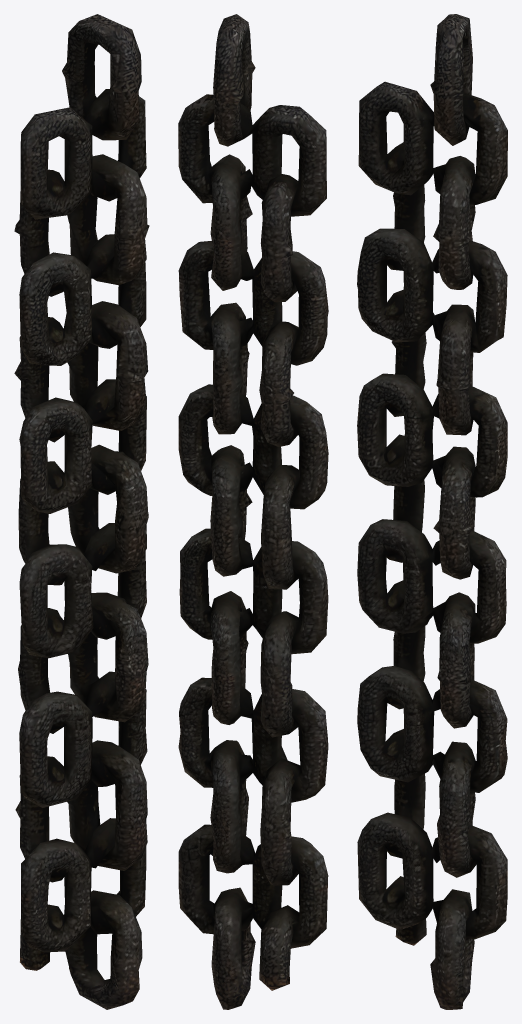
File: raw_chain.glb
3 views of the same model, side by side, from view 1: azimuth 30°, elevation 25°; view 2: azimuth 150°, elevation 25°; view 3: azimuth 330°, elevation 25° (orthographic).
Visible parts, largest first — view 1: tripo_node_8dc55631-9bc3-4ef4-89fb-550272f65bba; view 2: tripo_node_8dc55631-9bc3-4ef4-89fb-550272f65bba; view 3: tripo_node_8dc55631-9bc3-4ef4-89fb-550272f65bba.
Part boxes in pixels (x1,y1,x2,y2): tripo_node_8dc55631-9bc3-4ef4-89fb-550272f65bba: (14, 14, 149, 1009); tripo_node_8dc55631-9bc3-4ef4-89fb-550272f65bba: (178, 14, 328, 1009); tripo_node_8dc55631-9bc3-4ef4-89fb-550272f65bba: (357, 14, 507, 1009).
Bounding box in the file's own units: 0.1443 × 1 × 0.0792.
1 material, 1 textured.
